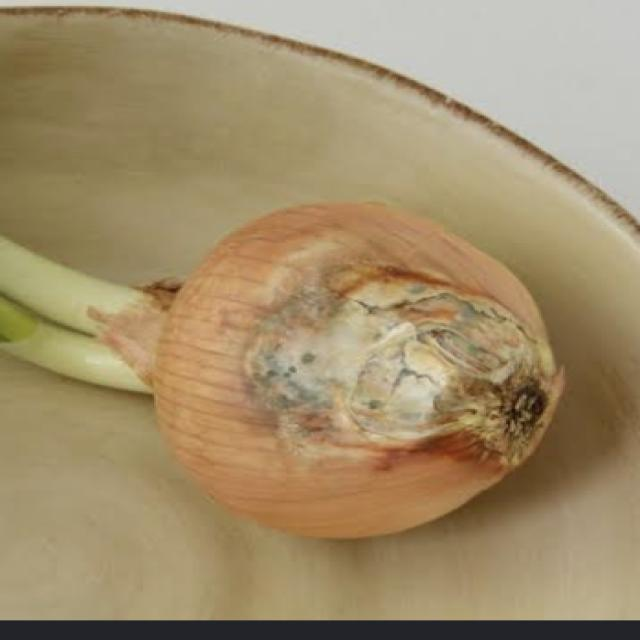sprouting: (0, 204, 561, 537)
